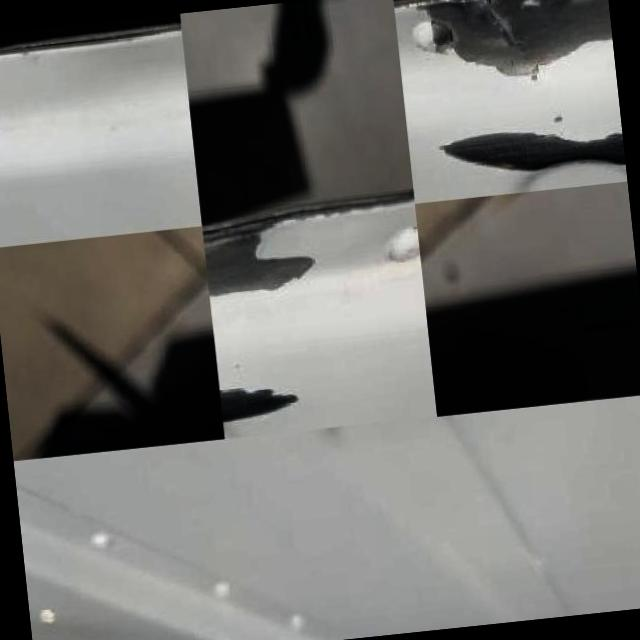crack: (477, 0, 549, 55)
